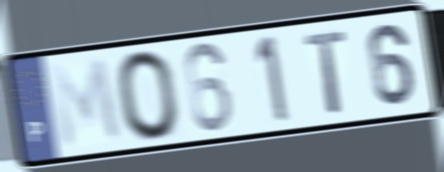1: (252, 33, 294, 127)
6: (183, 39, 235, 136), (365, 20, 419, 109)
M: (46, 55, 126, 153)
O: (113, 46, 183, 144)
T: (301, 27, 351, 117)
